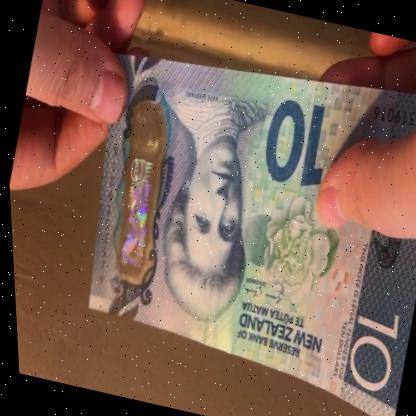10B: (99, 110, 178, 276)
